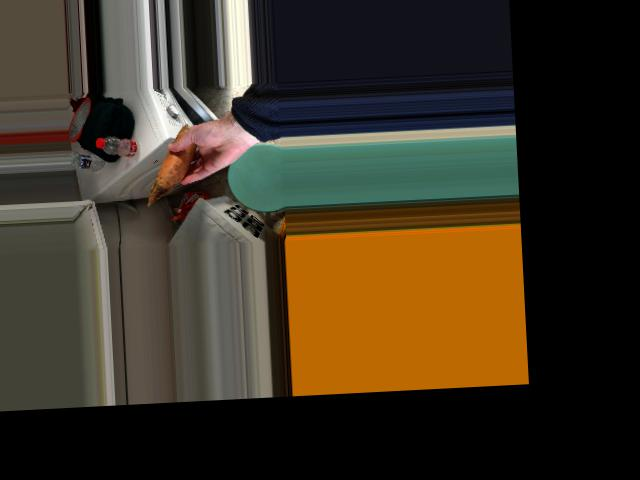sweet_potato: (156, 136, 197, 186)
